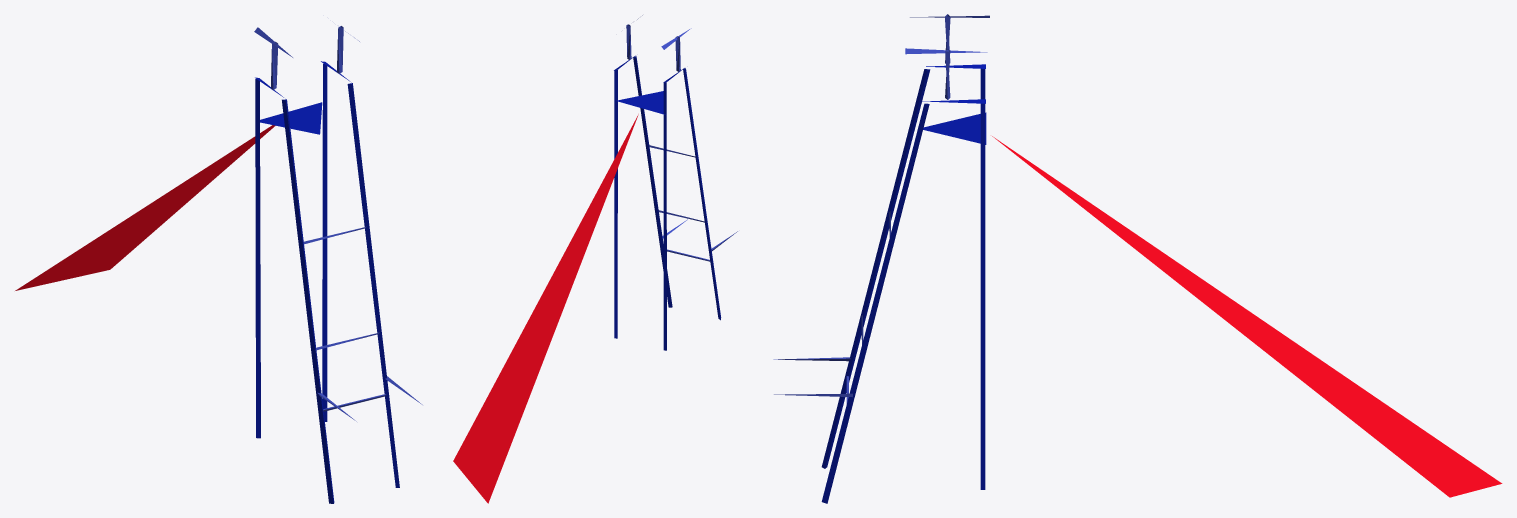
Rendered from EscorregadorLOD2.fbx.
3 renders of one model, left to right at view 1: azimuth 30°, elevation 25°; view 2: azimuth 150°, elevation 25°; view 3: azimuth 270°, elevation 25°, orthographic. The views are drawn at different scales.
Parts seen in each view (by area): view 1: EscorregadorLOD2; view 2: EscorregadorLOD2; view 3: EscorregadorLOD2.
Boxes of the visible parts, left/top/right/bottom form: EscorregadorLOD2: left=15, top=26, right=422, bottom=503; EscorregadorLOD2: left=453, top=15, right=737, bottom=503; EscorregadorLOD2: left=773, top=14, right=1502, bottom=503.
Bounding box in the file's own units: 41.83 × 241 × 341.
